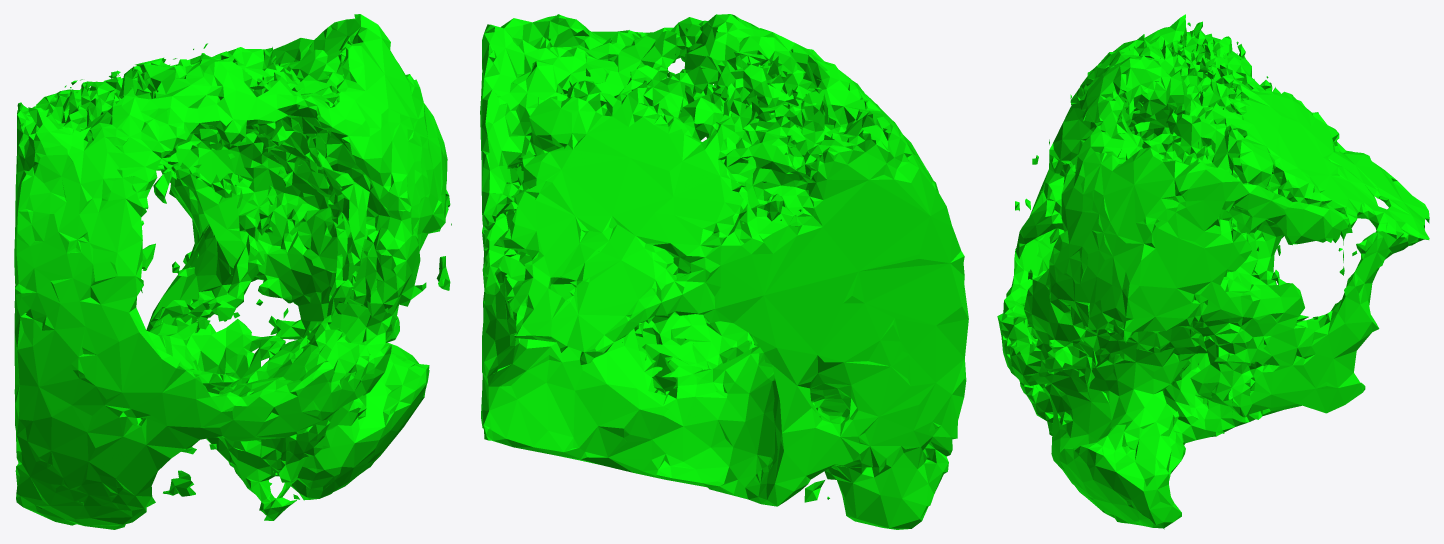
File: B939XXXX-1_base_25.obj
3 renders of one model, left to right at view 1: azimuth 30°, elevation 25°; view 2: azimuth 150°, elevation 25°; view 3: azimuth 270°, elevation 25°, orthographic. The views are drawn at different scales.
Visible parts, largest first — view 1: 25_base; view 2: 25_base; view 3: 25_base.
Boxes of the visible parts, bbox=[...] form: 25_base: bbox=[14, 14, 451, 529]; 25_base: bbox=[480, 14, 968, 529]; 25_base: bbox=[997, 14, 1429, 529].
Size of the model in its own units: 217 by 215 by 203.
